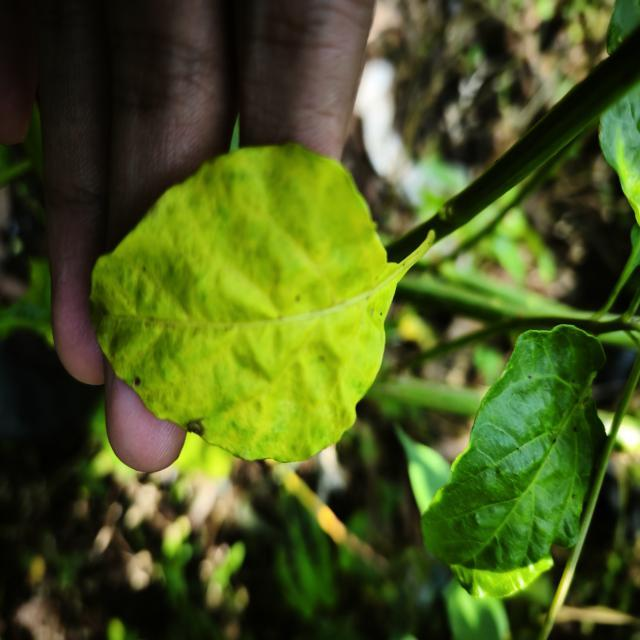Daun Cabai Sehat: (428, 324, 608, 575)
Virus Kuning: (88, 143, 392, 466)
